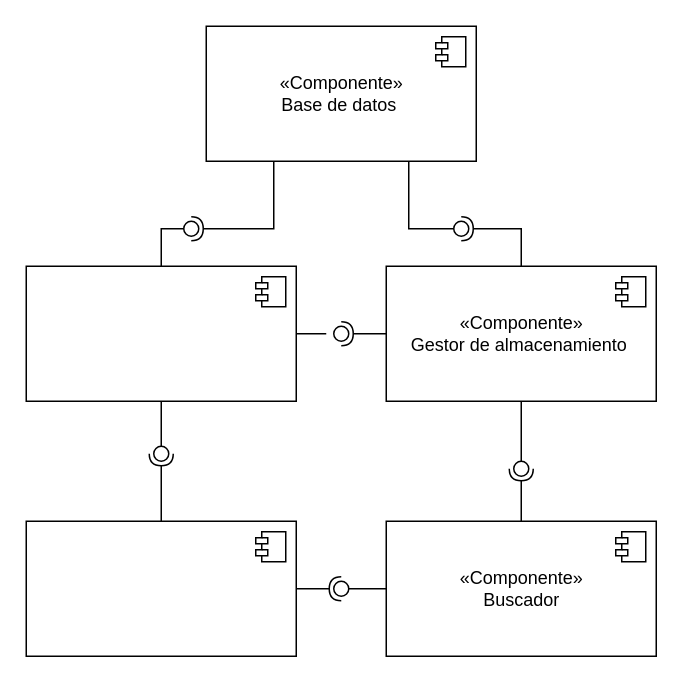
This 683x683 diagram has some shape labels left out. Each missing label, with the centre of its shape:
«Componente» Gestor de Usuarios: (160,333)
«Componente» Interfaz de usuario: (160,588)
